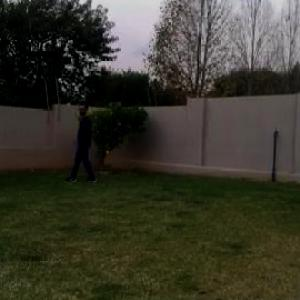follow: (72, 100, 94, 190)
